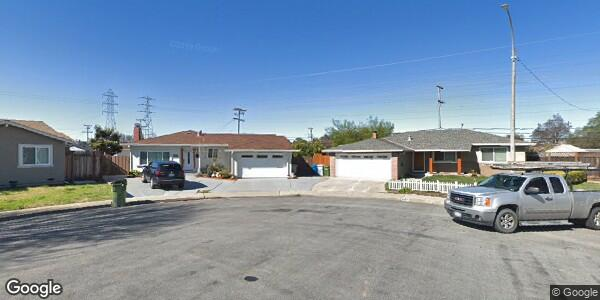Steel_Pole: (498, 2, 519, 162)
Wood_Pole: (230, 106, 246, 133)
